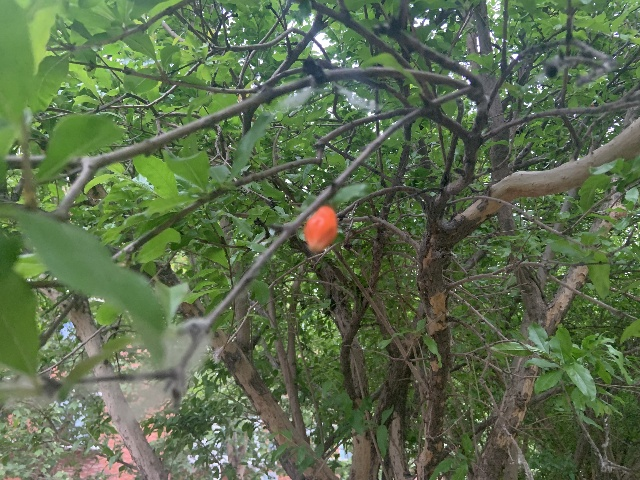bud: (303, 205, 338, 253)
